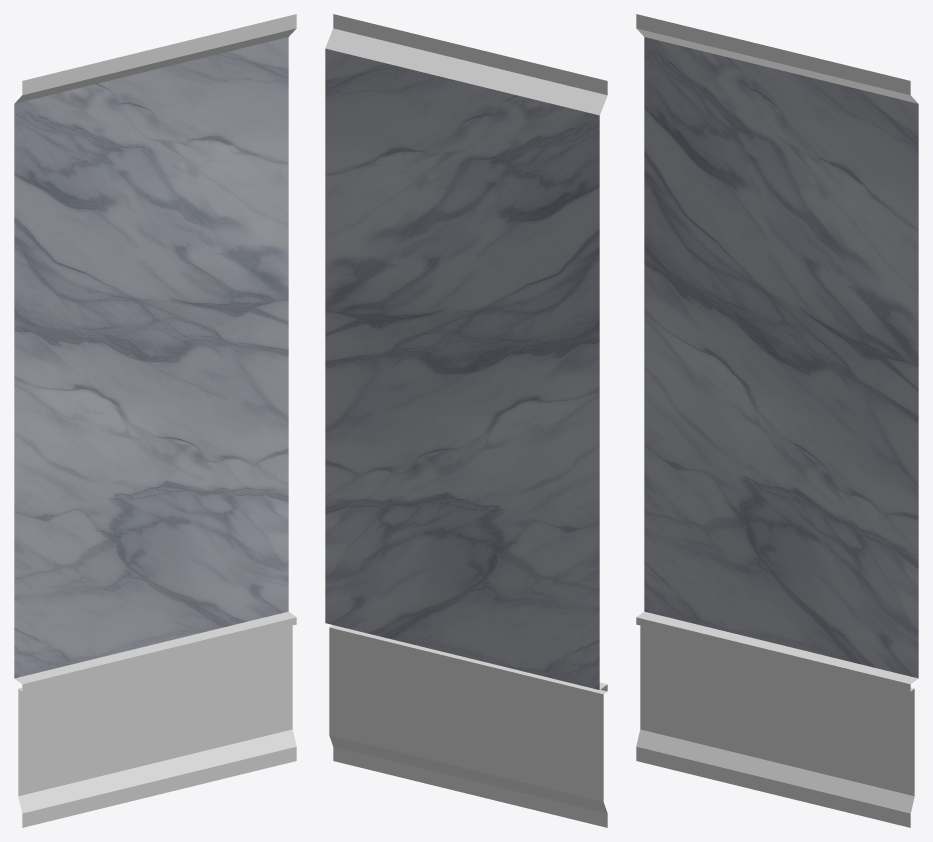
File: Wall_Library_1_Wall.fbx
3 renders of one model, left to right at view 1: azimuth 30°, elevation 25°; view 2: azimuth 150°, elevation 25°; view 3: azimuth 330°, elevation 25°, orthographic.
Parts seen in each view (by area): view 1: Wall_Library_1_Wall; view 2: Wall_Library_1_Wall; view 3: Wall_Library_1_Wall.
Part boxes in pixels (x1,y1,x2,y2): Wall_Library_1_Wall: [14, 14, 296, 827]; Wall_Library_1_Wall: [325, 14, 607, 827]; Wall_Library_1_Wall: [636, 14, 918, 827].
Size of the model in its own units: 200 by 520 by 10.
2 materials, 1 textured.
